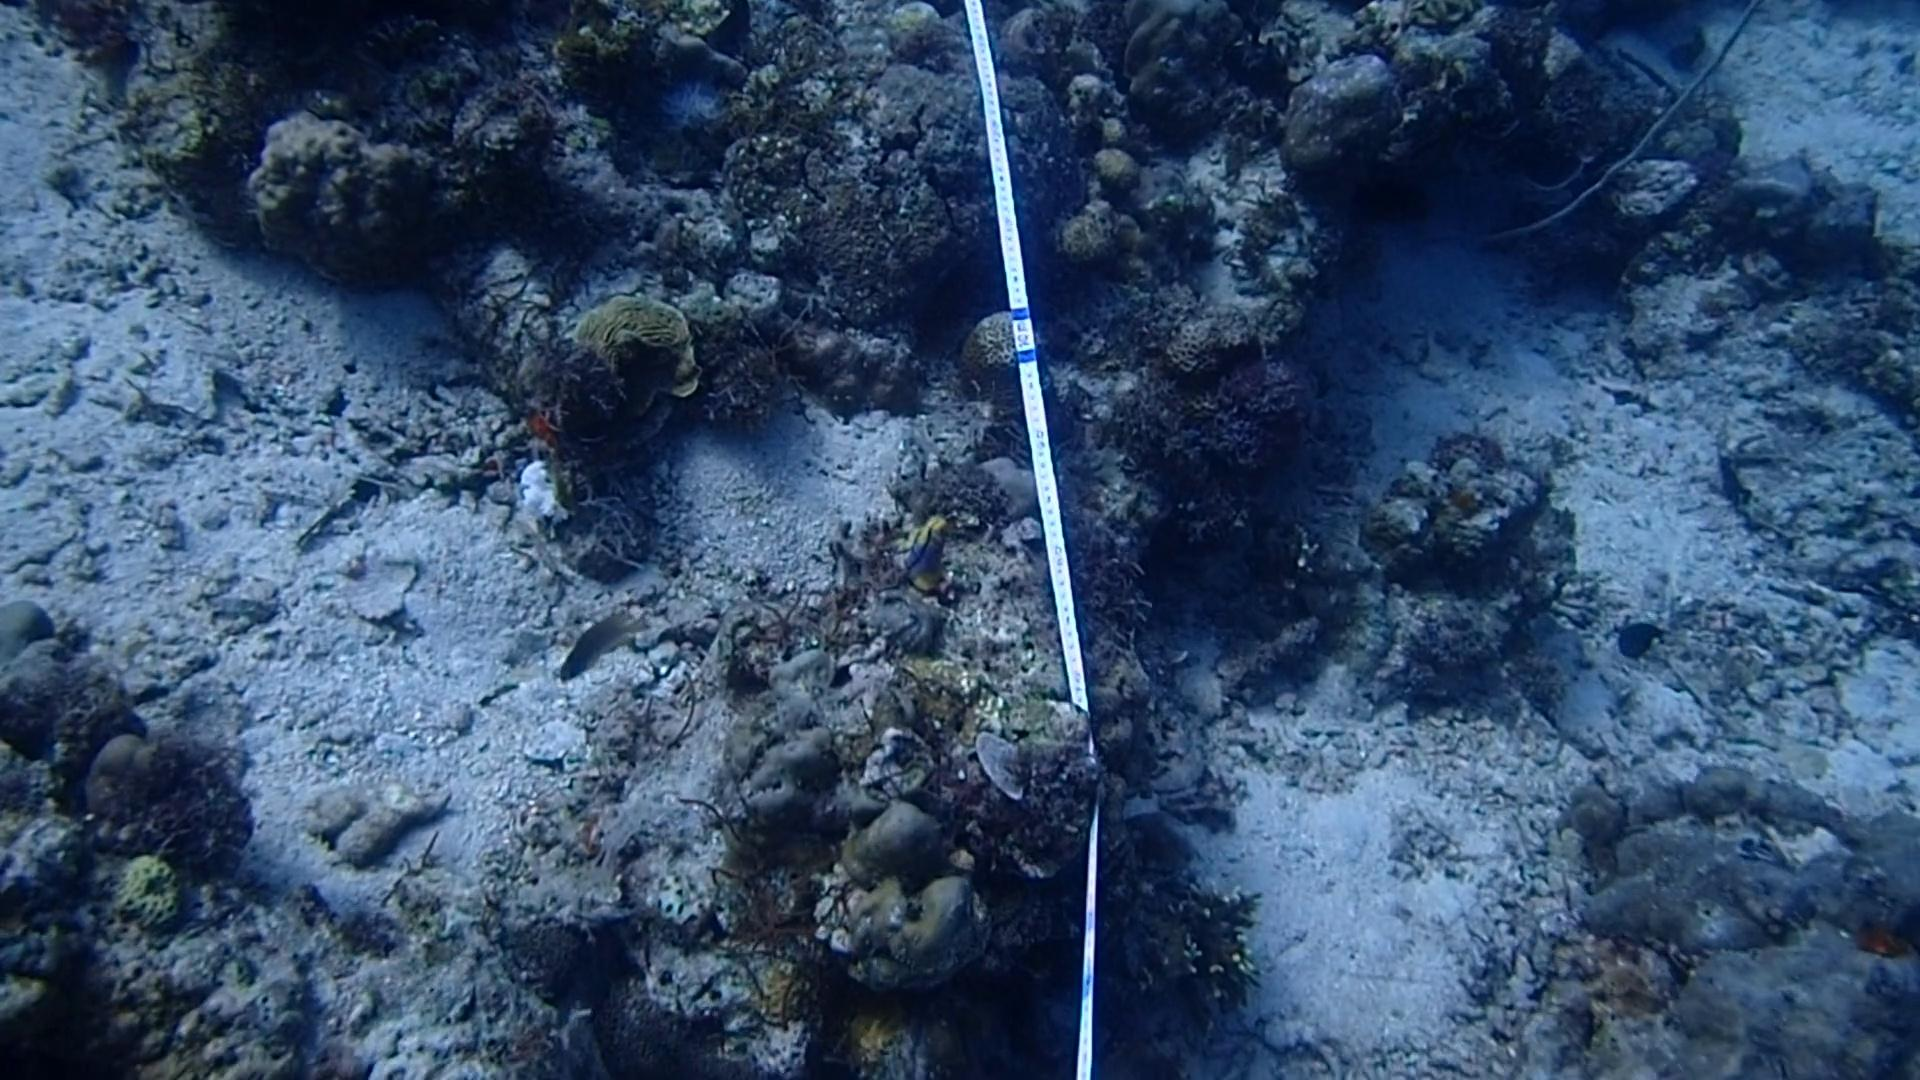Dark Fish: (1605, 612, 1676, 669)
Light Fish: (542, 601, 663, 686)
